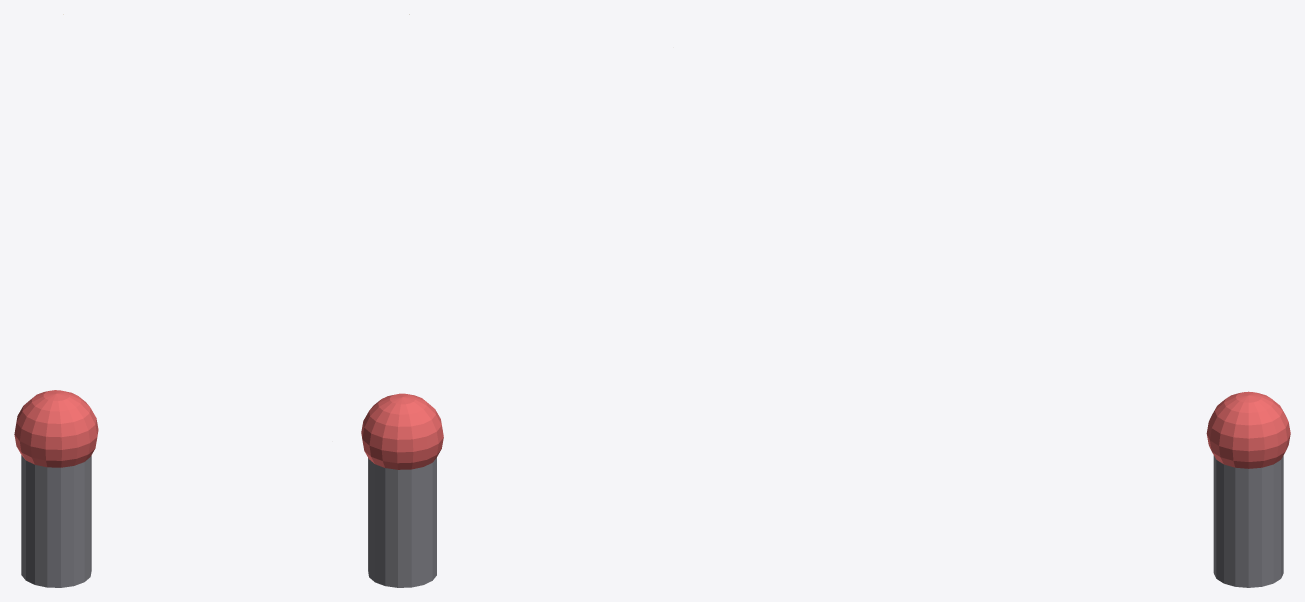
Rendered from firework_3tou_3d.glb.
3 views of the same model, side by side, from view 1: azimuth 30°, elevation 25°; view 2: azimuth 150°, elevation 25°; view 3: azimuth 270°, elevation 25° (orthographic).
Visible parts, largest first — view 1: firework_tube, firework_shell; view 2: firework_tube, firework_shell; view 3: firework_tube, firework_shell.
Boxes of the visible parts, left/top/right/bottom form: firework_tube: left=21, top=455, right=91, bottom=587; firework_shell: left=14, top=390, right=98, bottom=467; firework_tube: left=368, top=457, right=436, bottom=587; firework_shell: left=361, top=393, right=443, bottom=469; firework_tube: left=1213, top=455, right=1283, bottom=587; firework_shell: left=1206, top=391, right=1290, bottom=468.
Size of the model in its own units: 0.12 by 0.8804 by 0.84.
